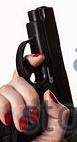pistol: (7, 3, 77, 140)
